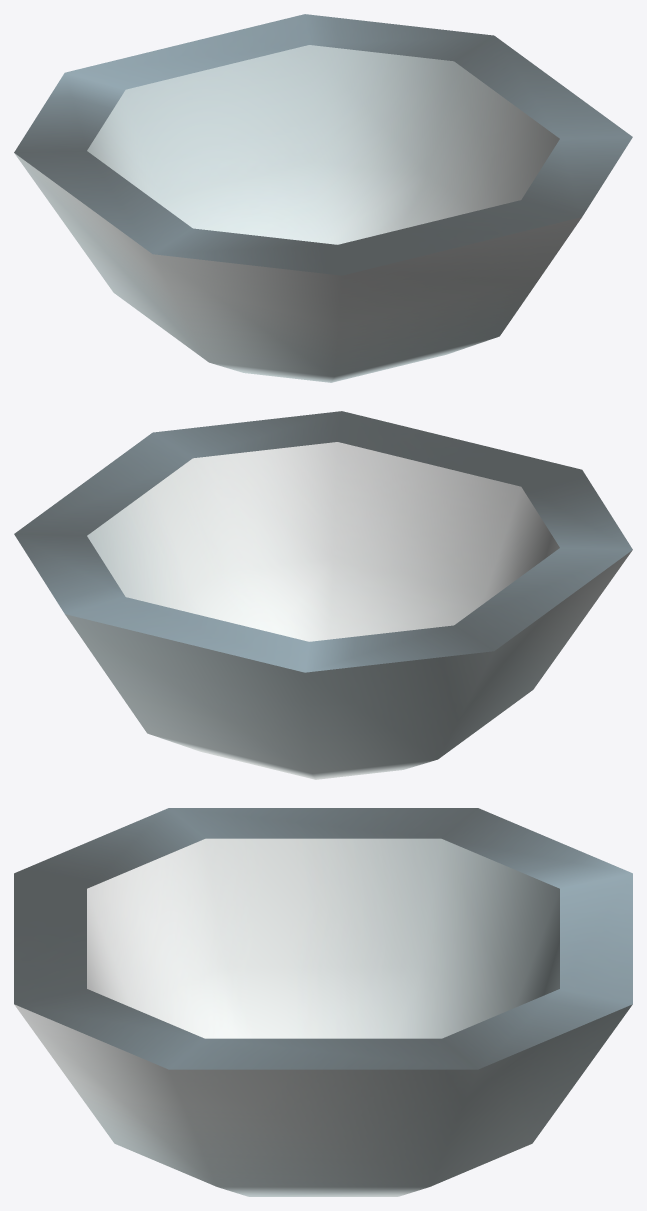
File: bowl_small_silver.fbx
The picture shows the model from 3 angles, top to bottom: view 1: azimuth 30°, elevation 25°; view 2: azimuth 150°, elevation 25°; view 3: azimuth 270°, elevation 25°; orthographic projection. The views are drawn at different scales.
Parts seen in each view (by area): view 1: bowl_small_silver; view 2: bowl_small_silver; view 3: bowl_small_silver.
Part boxes in pixels (bbox=[...]): bowl_small_silver: bbox=[14, 14, 632, 382]; bowl_small_silver: bbox=[14, 411, 632, 779]; bowl_small_silver: bbox=[14, 808, 632, 1196].
Bounding box in the file's own units: 29.37 × 10.28 × 29.37.
